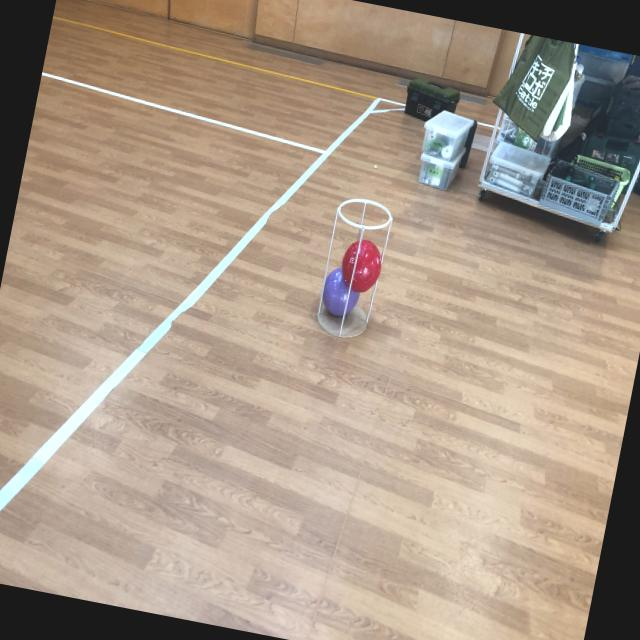purple_ball: (318, 266, 363, 320)
red_ball: (339, 236, 385, 293)
